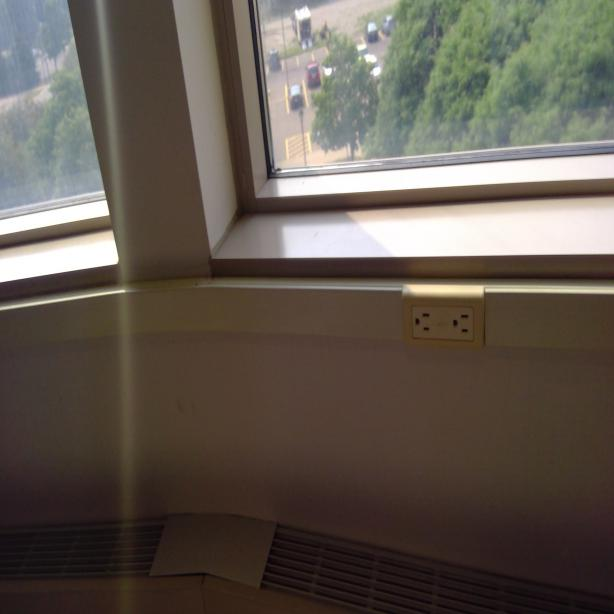typeb: (449, 308, 474, 341), (413, 306, 436, 340)
